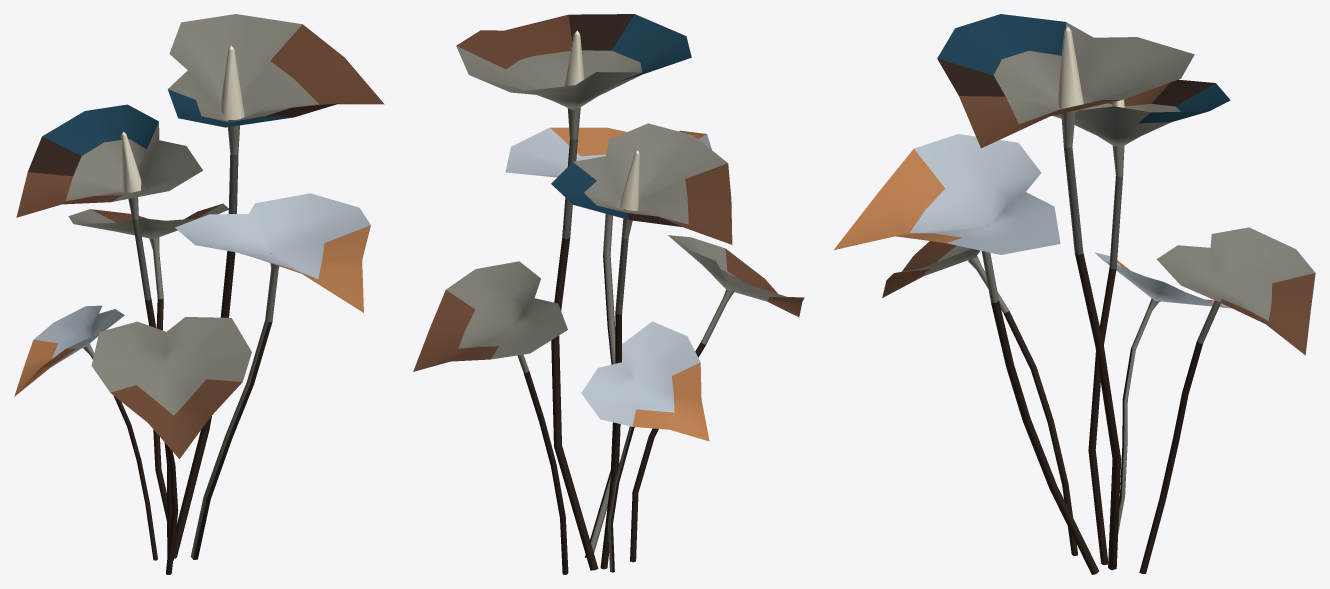
The model's file is itch_assetquest_pond_swamp_calla_2.glb.
3 views of the same model, side by side, from view 1: azimuth 30°, elevation 25°; view 2: azimuth 150°, elevation 25°; view 3: azimuth 270°, elevation 25° (orthographic). The views are drawn at different scales.
Visible parts, largest first — view 1: Swamp_Calla_2; view 2: Swamp_Calla_2; view 3: Swamp_Calla_2.
Boxes of the visible parts, x1,y1,x2,y2 form: Swamp_Calla_2: (14, 14, 384, 574); Swamp_Calla_2: (413, 14, 804, 574); Swamp_Calla_2: (833, 14, 1315, 574).
Size of the model in its own units: 0.7448 by 1.23 by 0.96.
